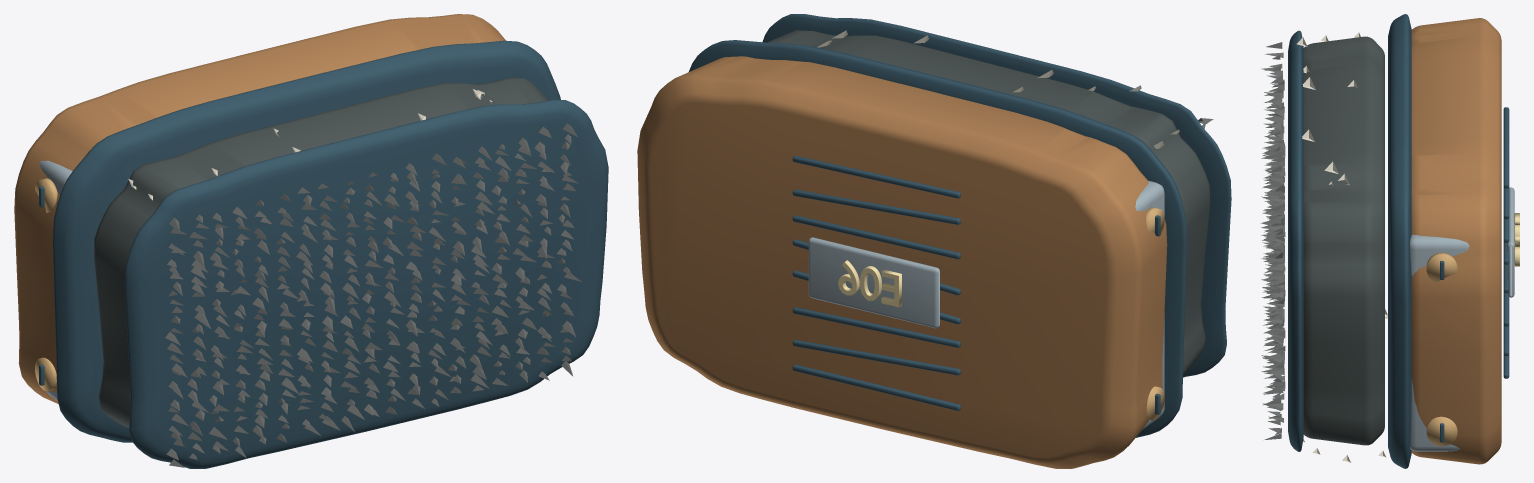
File: E06_Cinematic_Eraser_R200.glb
3 renders of one model, left to right at view 1: azimuth 30°, elevation 25°; view 2: azimuth 150°, elevation 25°; view 3: azimuth 270°, elevation 25°, orthographic. The views are drawn at different scales.
Parts seen in each view (by area): view 1: E06 / Blue-black inlaid enamel, Sculpted dust-rough felt teeth, E06 organic curved walnut grip, E06 deeply inset pressed felt, E06 / Satin brass rivet, E06 / Satin blue steel trim; view 2: E06 organic curved walnut grip, E06 / Blue-black inlaid enamel, E06 deeply inset pressed felt, E06 / Satin blue steel trim, E06 stamped sculpted lettering, E06 / Satin brass rivet; view 3: E06 organic curved walnut grip, E06 deeply inset pressed felt, E06 / Blue-black inlaid enamel, Sculpted dust-rough felt teeth, E06 / Satin blue steel trim, E06 / Satin brass rivet, Physical chalk residue, E06 stamped sculpted lettering.
Part boxes in pixels (box(x1,y1,x2,y2)): E06 / Blue-black inlaid enamel: box(39, 40, 608, 468); Sculpted dust-rough felt teeth: box(165, 123, 581, 467); E06 organic curved walnut grip: box(14, 14, 505, 403); E06 deeply inset pressed felt: box(94, 77, 548, 427); E06 / Satin brass rivet: box(35, 178, 57, 391); E06 / Satin blue steel trim: box(39, 160, 72, 400); E06 organic curved walnut grip: box(637, 56, 1167, 468); E06 / Blue-black inlaid enamel: box(689, 14, 1231, 437); E06 deeply inset pressed felt: box(767, 30, 1209, 374); E06 / Satin blue steel trim: box(808, 180, 1164, 429); E06 stamped sculpted lettering: box(838, 260, 901, 307); E06 / Satin brass rivet: box(1146, 207, 1164, 420); E06 organic curved walnut grip: box(1411, 18, 1501, 464); E06 deeply inset pressed felt: box(1303, 36, 1384, 445); E06 / Blue-black inlaid enamel: box(1288, 14, 1509, 468); Sculpted dust-rough felt teeth: box(1260, 42, 1285, 439); E06 / Satin blue steel trim: box(1410, 187, 1514, 451); E06 / Satin brass rivet: box(1426, 252, 1457, 446); Physical chalk residue: box(1296, 32, 1387, 462); E06 stamped sculpted lettering: box(1514, 213, 1519, 266).
Size of the model in its own units: 1.53 by 0.9348 by 0.7392.
Materials: 8 (4 with a texture image).
